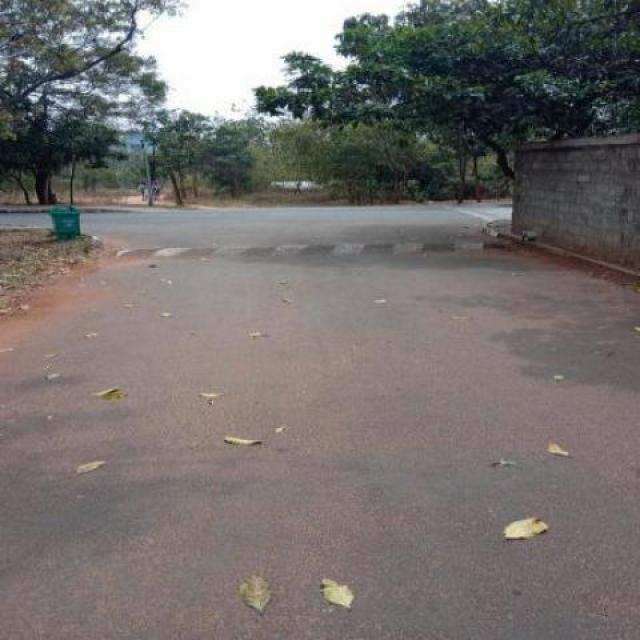Speed Bump: (84, 236, 511, 253)
